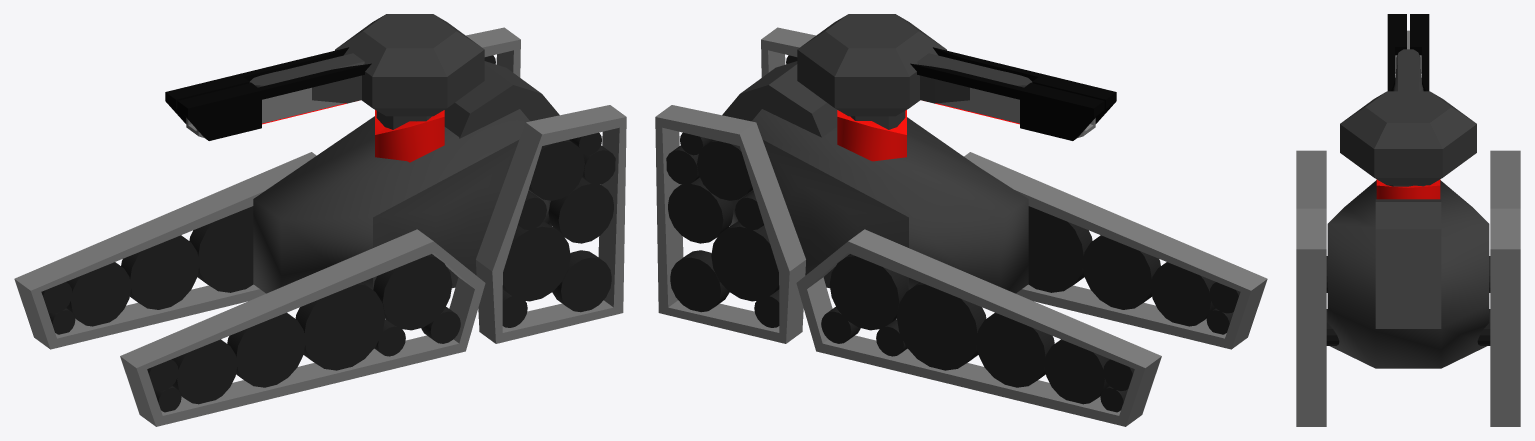
File: 侵略兵器大炮.fbx
The picture shows the model from 3 angles, left to right: view 1: azimuth 30°, elevation 25°; view 2: azimuth 150°, elevation 25°; view 3: azimuth 270°, elevation 25°; orthographic projection. The views are drawn at different scales.
Visible parts, largest first — view 1: 車身, 車輪 (×7), 履帶, 履帶003, 履帶001, 炮塔本體, 砲管裝飾 (×4), 車輪001, 車輪008, 車輪017, 車輪007, 車輪020 (+9 smaller); view 2: 車身, 履帶001, 履帶002, 履帶, 車輪 (×4), 炮塔本體, 砲管裝飾 (×4), 車輪001, 車輪003, 車輪008, 車輪009, 車輪007 (+12 smaller); view 3: 車身, 炮塔本體, 履帶003, 履帶002, 砲管裝飾 (×4), 履帶001, 履帶, 保護殼, 車輪017, 車輪009.
Boxes of the visible parts, x1=… form: 車身: x1=253, y1=61, x2=559, y2=293; 車輪 (×7): x1=147, y1=254, x2=460, y2=404; 履帶: x1=120, y1=229, x2=485, y2=426; 履帶003: x1=476, y1=105, x2=626, y2=343; 履帶001: x1=14, y1=152, x2=316, y2=349; 炮塔本體: x1=335, y1=14, x2=484, y2=129; 砲管裝飾 (×4): x1=165, y1=47, x2=371, y2=140; 車輪001: x1=189, y1=206, x2=253, y2=292; 車輪008: x1=121, y1=235, x2=199, y2=309; 車輪017: x1=502, y1=221, x2=570, y2=301; 車輪007: x1=66, y1=262, x2=130, y2=326; 車輪020: x1=548, y1=177, x2=613, y2=243; 車身: x1=722, y1=61, x2=1028, y2=293; 履帶001: x1=796, y1=229, x2=1161, y2=426; 履帶002: x1=655, y1=105, x2=805, y2=343; 履帶: x1=964, y1=152, x2=1267, y2=349; 車輪 (×4): x1=1028, y1=206, x2=1240, y2=326; 炮塔本體: x1=797, y1=14, x2=946, y2=129; 砲管裝飾 (×4): x1=910, y1=47, x2=1116, y2=140; 車輪001: x1=897, y1=282, x2=986, y2=370; 車輪003: x1=829, y1=254, x2=908, y2=330; 車輪008: x1=976, y1=312, x2=1054, y2=387; 車輪009: x1=711, y1=221, x2=779, y2=301; 車輪007: x1=1044, y1=339, x2=1109, y2=404; 車身: x1=1327, y1=180, x2=1489, y2=368; 炮塔本體: x1=1340, y1=91, x2=1476, y2=186; 履帶003: x1=1296, y1=208, x2=1326, y2=426; 履帶002: x1=1490, y1=208, x2=1520, y2=426; 砲管裝飾 (×4): x1=1387, y1=14, x2=1429, y2=91; 履帶001: x1=1490, y1=150, x2=1520, y2=208; 履帶: x1=1296, y1=150, x2=1326, y2=208; 保護殼: x1=1376, y1=179, x2=1440, y2=199; 車輪017: x1=1326, y1=309, x2=1339, y2=345; 車輪009: x1=1477, y1=309, x2=1490, y2=345.
Size of the model in its own units: 435 by 226 by 182.
